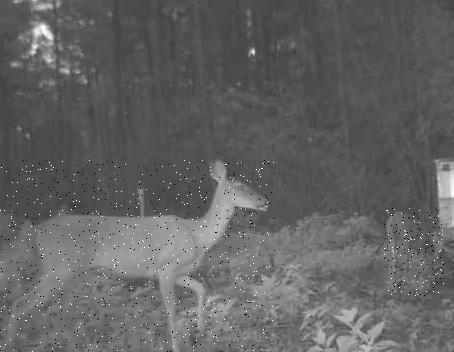Deer: (0, 160, 275, 352), (384, 209, 444, 297)
